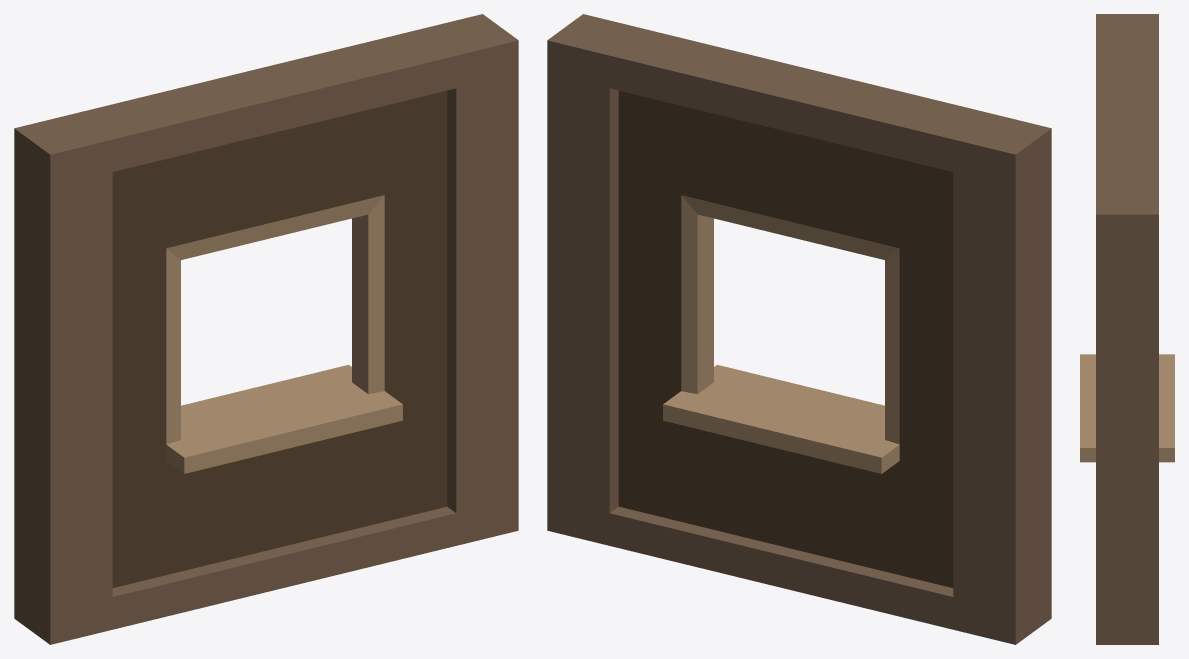
Rendered from enchantedforest_wall_wood_window_3.fbx.
3 views of the same model, side by side, from view 1: azimuth 30°, elevation 25°; view 2: azimuth 150°, elevation 25°; view 3: azimuth 270°, elevation 25° (orthographic). The views are drawn at different scales.
Parts seen in each view (by area): view 1: Cube.026; view 2: Cube.026; view 3: Cube.026.
Part boxes in pixels (box(x1,y1,x2,y2)): Cube.026: box(14, 14, 518, 644); Cube.026: box(547, 14, 1051, 644); Cube.026: box(1080, 14, 1174, 644).
Size of the model in its own units: 3 by 3 by 0.6.
